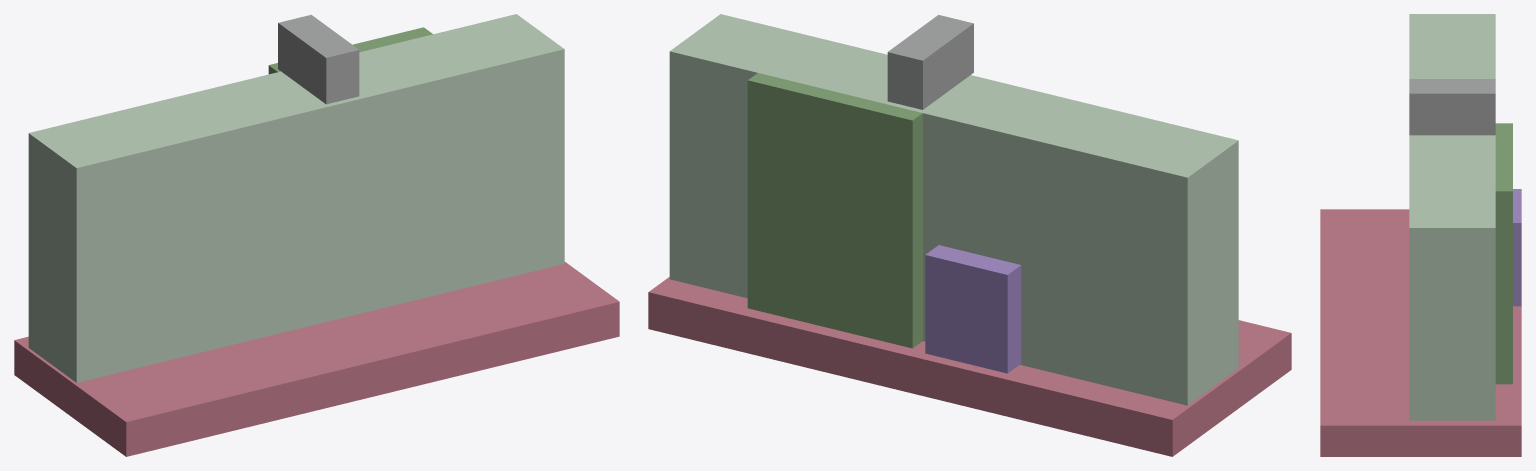
3 renders of one model, left to right at view 1: azimuth 30°, elevation 25°; view 2: azimuth 150°, elevation 25°; view 3: azimuth 270°, elevation 25°, orthographic. The views are drawn at different scales.
Parts seen in each view (by area): view 1: world; view 2: world; view 3: world.
Boxes of the visible parts, box(x1,y1,x2,y2) form: world: box(14, 14, 619, 456); world: box(648, 14, 1291, 456); world: box(1320, 14, 1521, 456).
Size of the model in its own units: 8.9 by 5.2 by 3.5.
